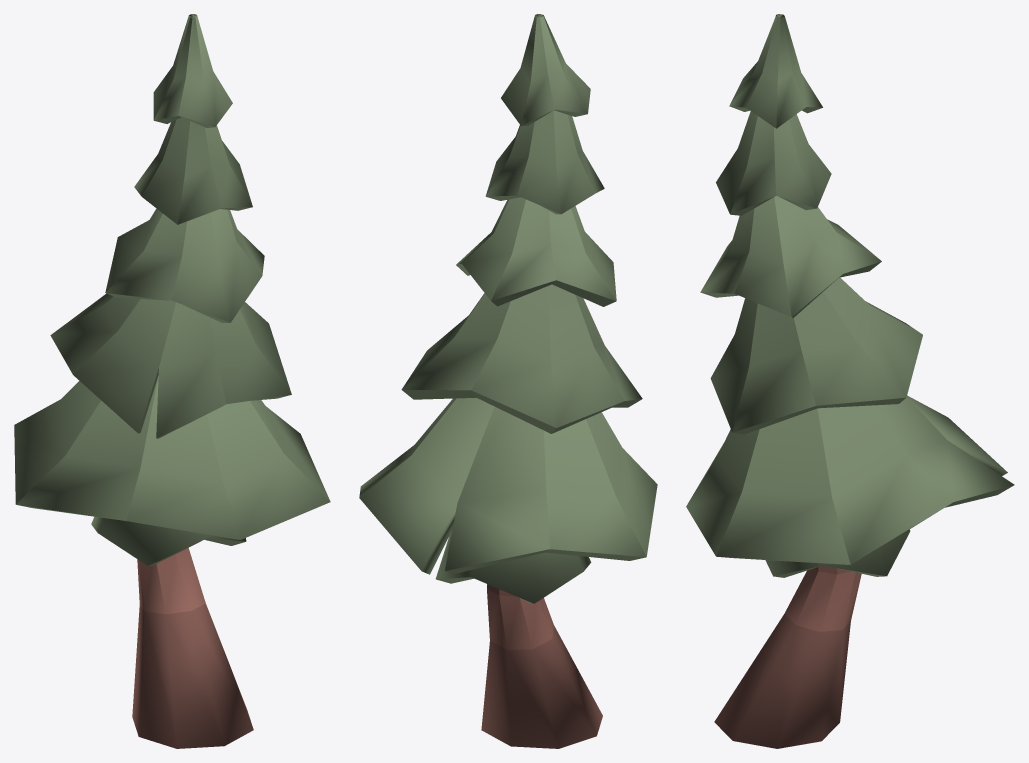
The model's file is spruse_highp_curvedd.fbx.
The picture shows the model from 3 angles, left to right: view 1: azimuth 30°, elevation 25°; view 2: azimuth 150°, elevation 25°; view 3: azimuth 270°, elevation 25°; orthographic projection.
Parts seen in each view (by area): view 1: Circle.005; view 2: Circle.005; view 3: Circle.005.
Part boxes in pixels (x1=…): Circle.005: x1=14, y1=14, x2=330, y2=748; Circle.005: x1=359, y1=14, x2=657, y2=748; Circle.005: x1=686, y1=14, x2=1014, y2=748.
Bounding box in the file's own units: 374 × 886 × 373.
